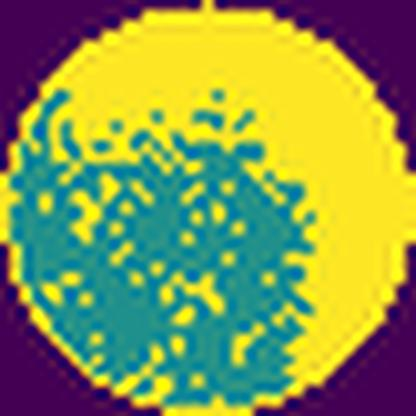Edge-Loc: (54, 0, 415, 390)
